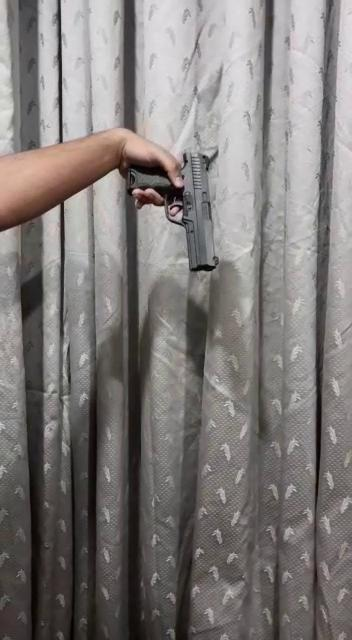weapon: (115, 142, 223, 276)
